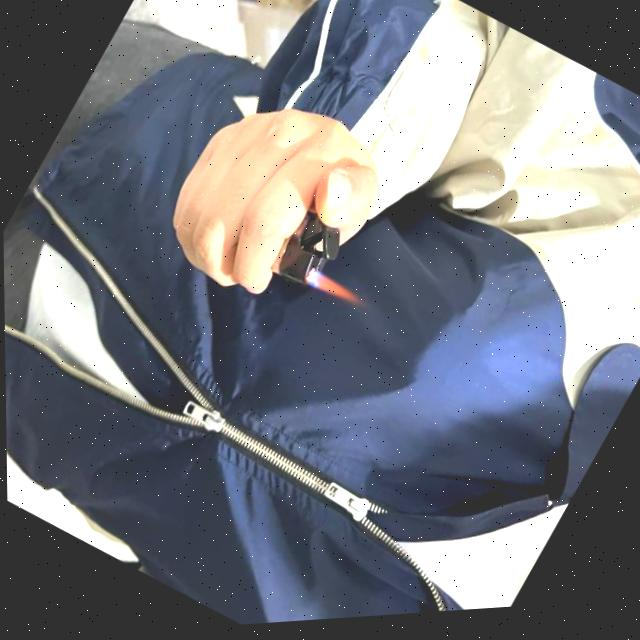Fire: (307, 270, 364, 316)
